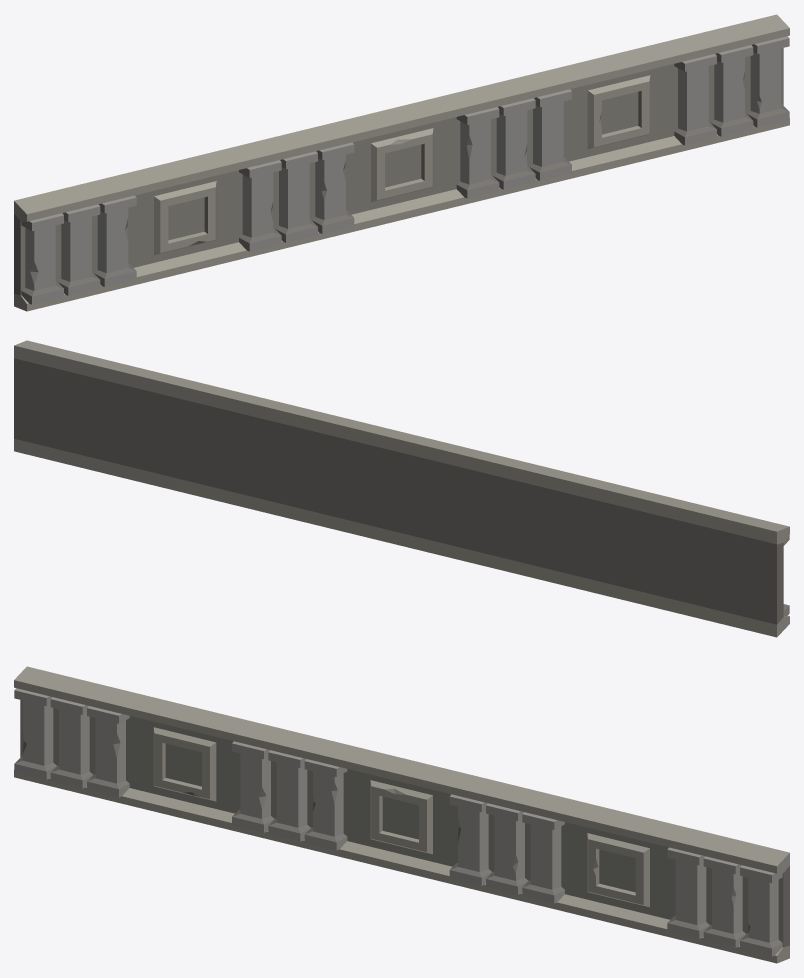
The model's file is ancient_SM_Bld_Trim_04.gltf.
3 renders of one model, top to bottom at view 1: azimuth 30°, elevation 25°; view 2: azimuth 150°, elevation 25°; view 3: azimuth 330°, elevation 25°, orthographic.
Parts seen in each view (by area): view 1: SM_Bld_Trim_04; view 2: SM_Bld_Trim_04; view 3: SM_Bld_Trim_04.
Part boxes in pixels (x1=…): SM_Bld_Trim_04: x1=14, y1=14, x2=789, y2=311; SM_Bld_Trim_04: x1=14, y1=340, x2=789, y2=637; SM_Bld_Trim_04: x1=14, y1=666, x2=789, y2=963.
Size of the model in its own units: 2.5 by 0.3311 by 0.0866.
2 materials, 2 textured.
